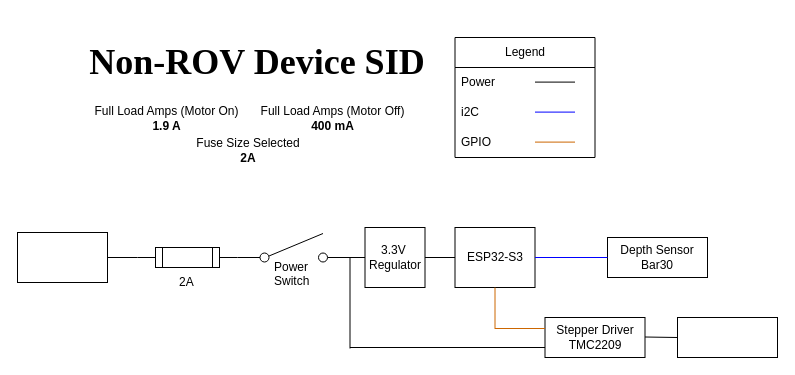
This 795x375 diagram has some shape labels left out. Here are the shapes that lost their labels. From the top down, the centre of each, then its label:
At [62,257]: "8S1P NiMH 1.2V".
At [727,337]: "Stepper Motor NEMA 17".
